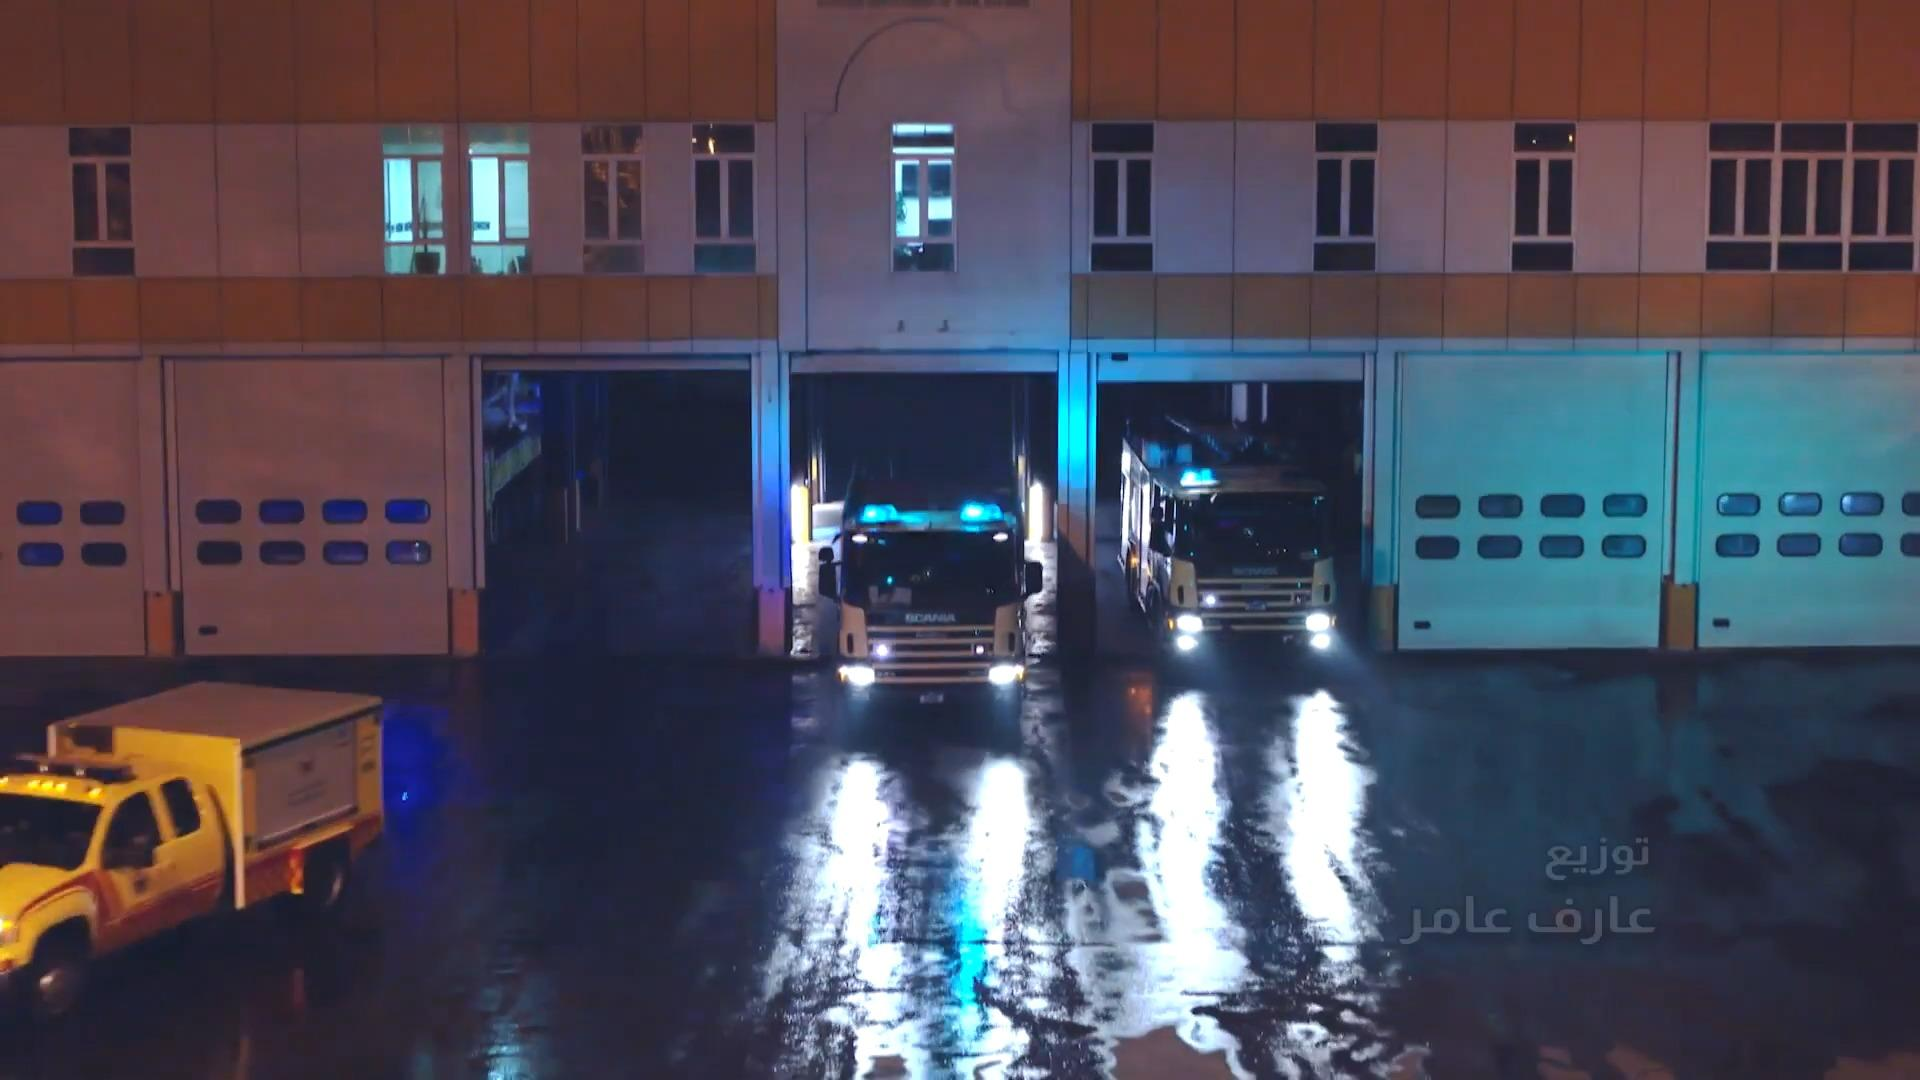firetruck_off: (1, 680, 382, 1034)
firetruck_on: (819, 438, 1046, 749), (1122, 414, 1337, 678)
